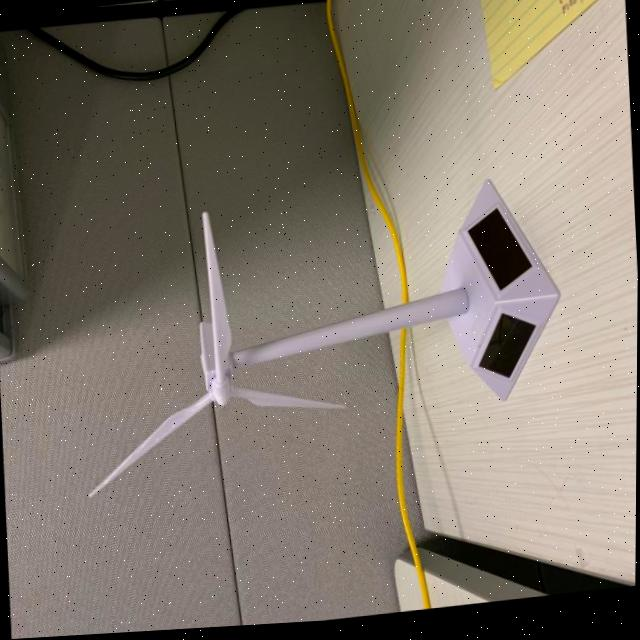solid-blade: (90, 395, 214, 496), (204, 214, 233, 385), (232, 389, 345, 413)
